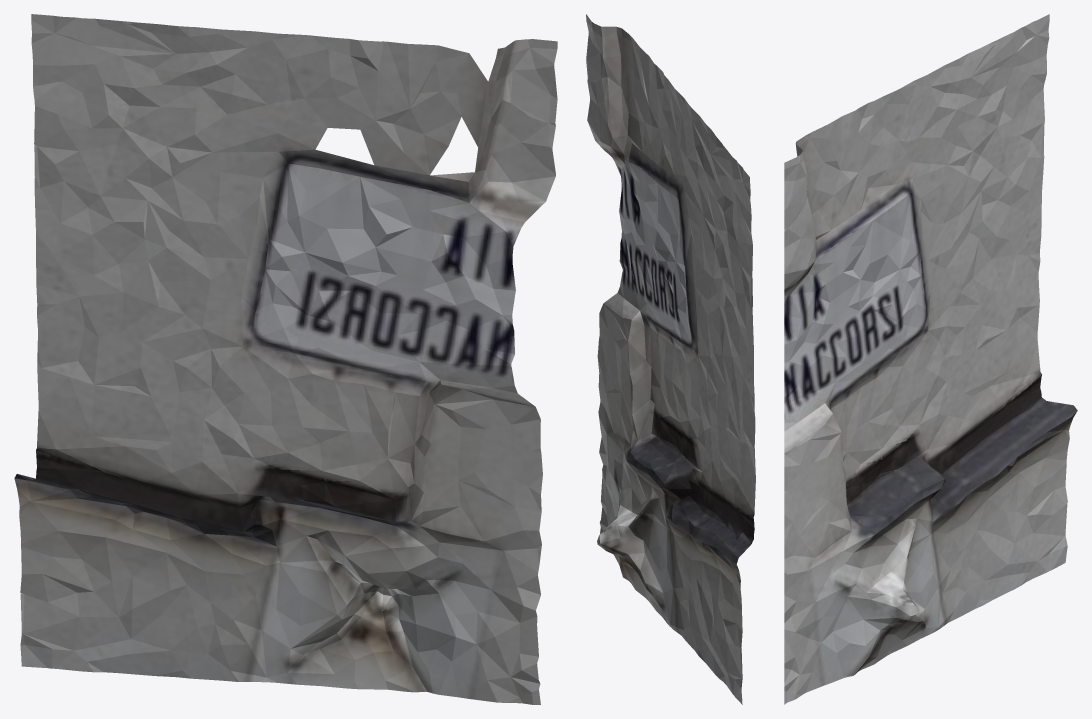
3 views of the same model, side by side, from view 1: azimuth 30°, elevation 25°; view 2: azimuth 150°, elevation 25°; view 3: azimuth 270°, elevation 25° (orthographic). The views are drawn at different scales.
Bounding box in the file's own units: 0.4872 × 0.8374 × 0.406.
Materials: 2 (2 with a texture image).
